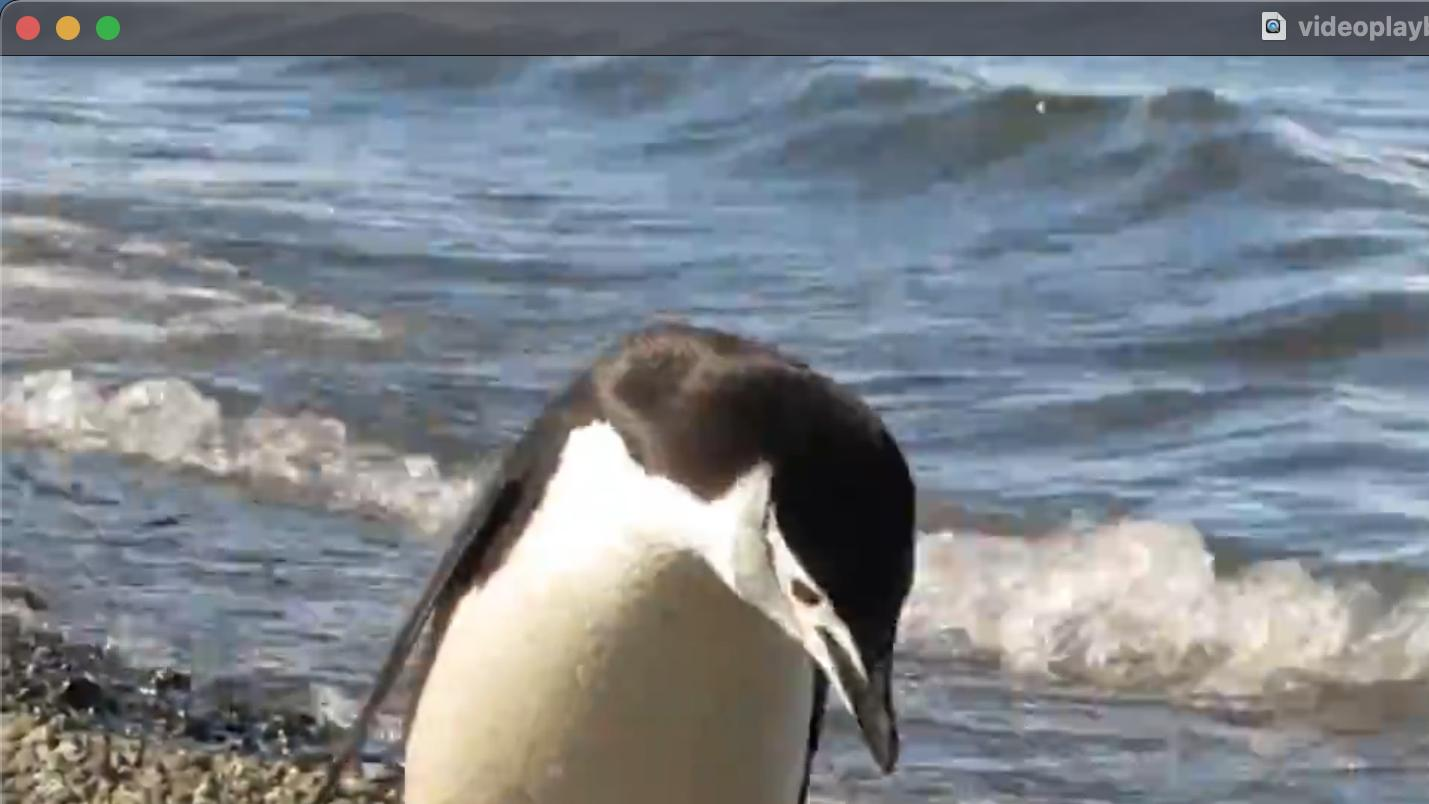Chinstrap Penguin: (308, 294, 991, 804), (1206, 659, 1429, 804)
